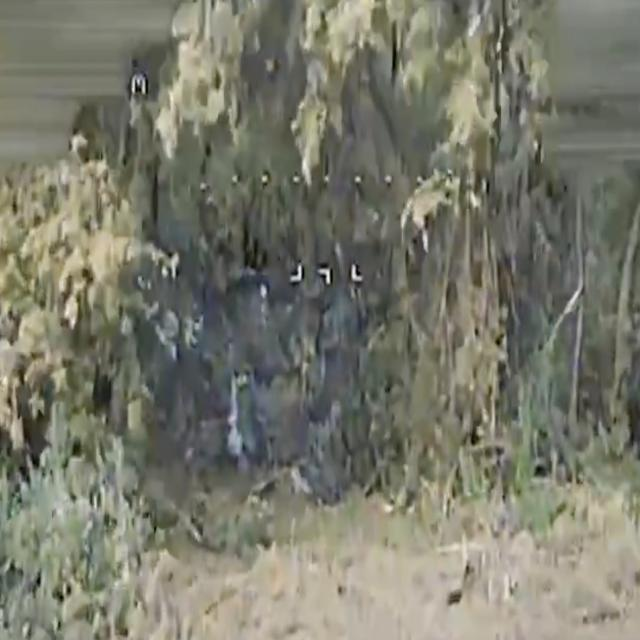vehicle: (161, 271, 380, 489)
